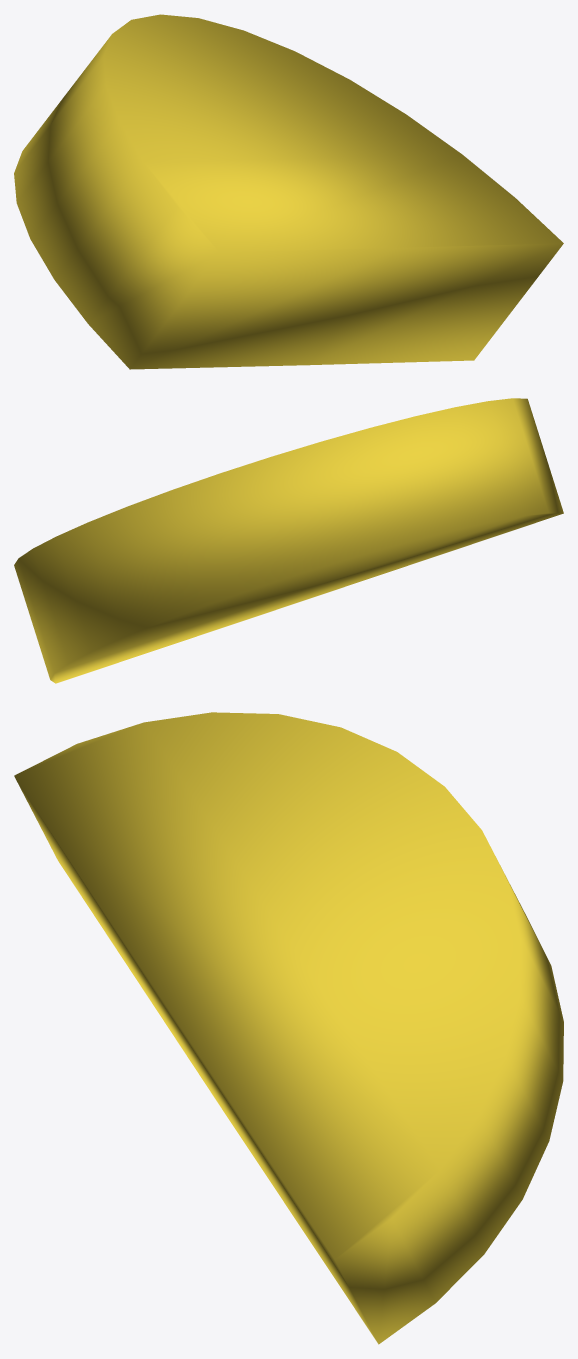
Rendered from semicircle2.glb.
3 renders of one model, top to bottom at view 1: azimuth 30°, elevation 25°; view 2: azimuth 150°, elevation 25°; view 3: azimuth 270°, elevation 25°, orthographic. The views are drawn at different scales.
Visible parts, largest first — view 1: Circle; view 2: Circle; view 3: Circle.
Part boxes in pixels (box(x1,y1,x2,y2)): Circle: box(14, 14, 563, 369); Circle: box(14, 398, 563, 683); Circle: box(14, 712, 563, 1344).
Bounding box in the file's own units: 1.91 × 1.29 × 1.52.
